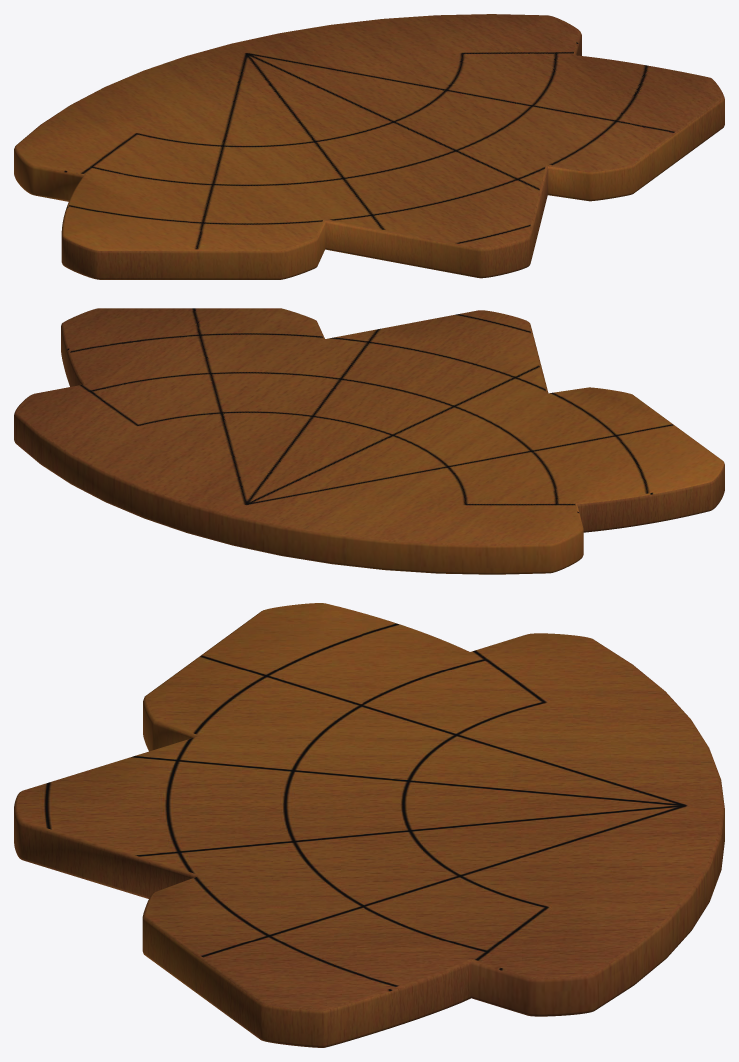
File: pulijudam-board.gltf
The picture shows the model from 3 angles, top to bottom: view 1: azimuth 30°, elevation 25°; view 2: azimuth 150°, elevation 25°; view 3: azimuth 270°, elevation 25°; orthographic projection. The views are drawn at different scales.
Bounding box in the file's own units: 8.58 × 0.3862 × 6.31.
Materials: 1 (1 with a texture image).
